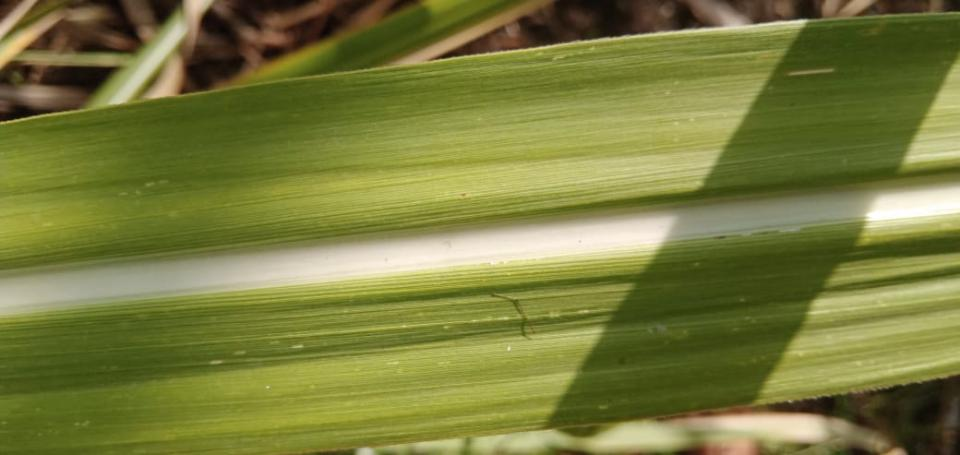Healthy: (0, 13, 959, 454)
